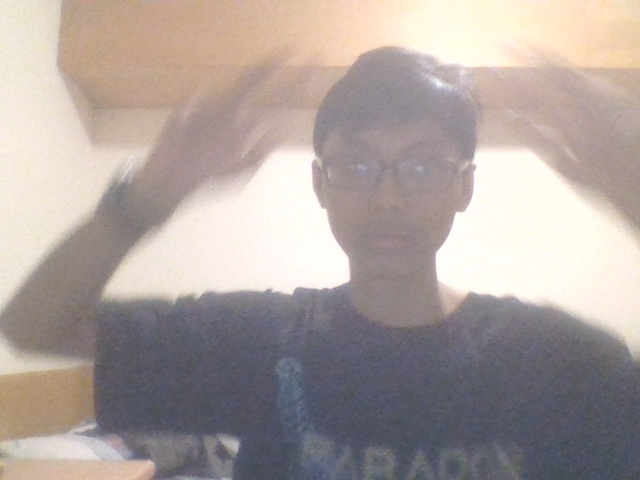human: (1, 46, 640, 480)
